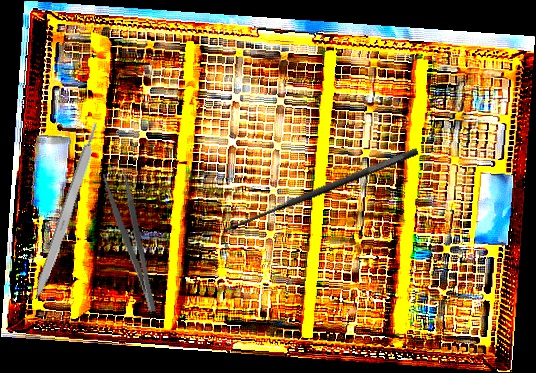Dressing Forceps: (101, 168, 160, 316)
Hook Surgical: (212, 144, 426, 252)
Scalpel Handle: (31, 121, 105, 302)
